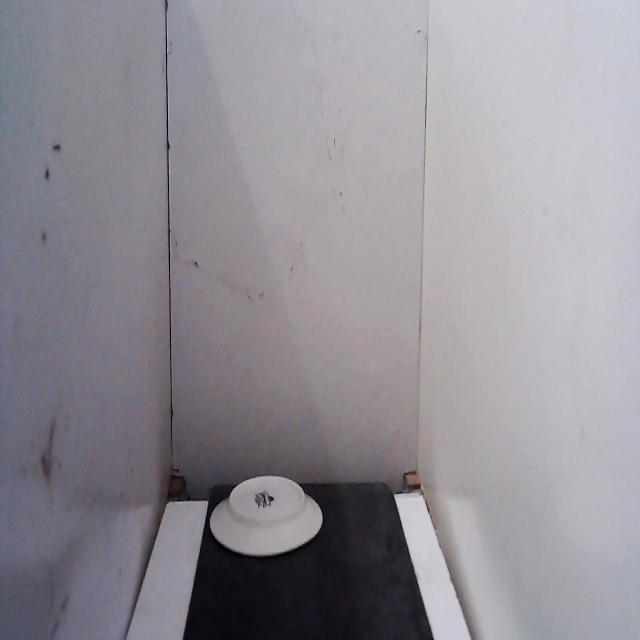vidro: (204, 465, 334, 571)
